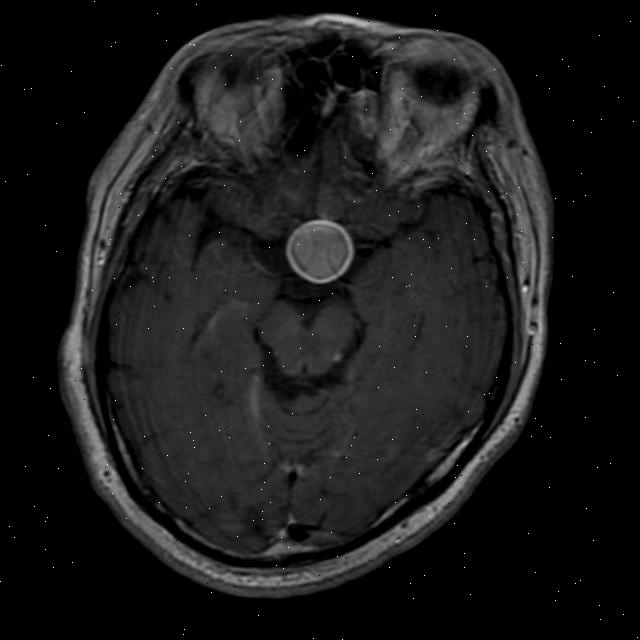Pituitary: (280, 214, 360, 288)
